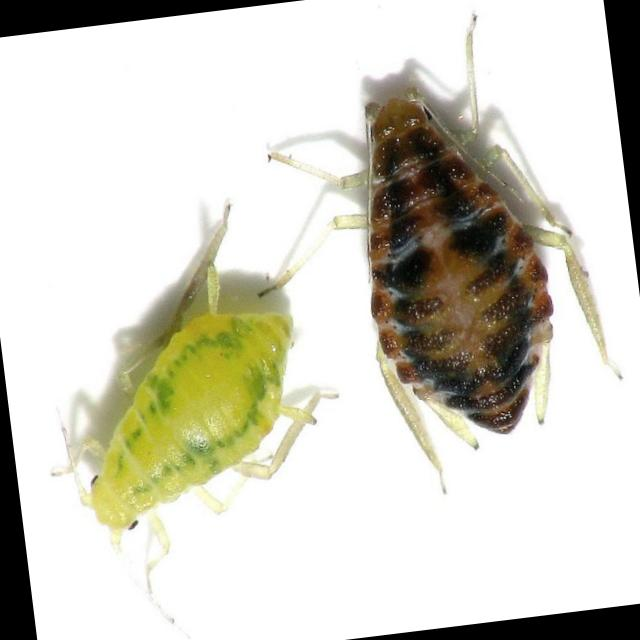Aphid: (306, 15, 622, 497), (26, 213, 349, 598)
